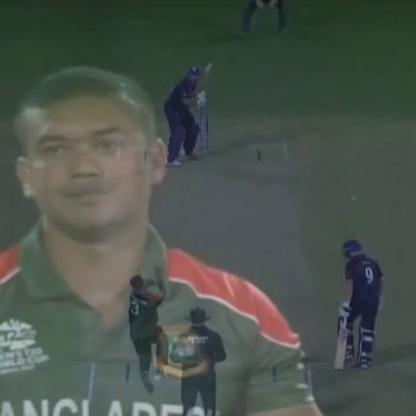pitch: (90, 124, 320, 416)
